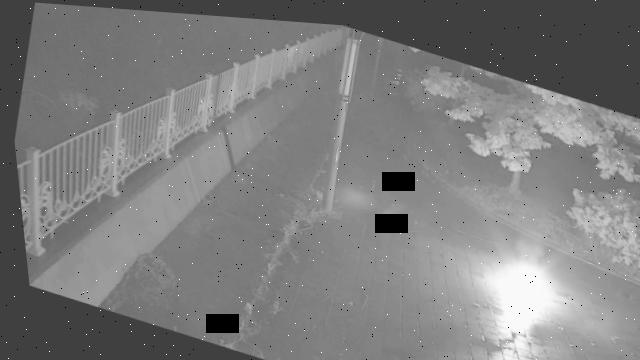fire: (472, 243, 562, 335)
